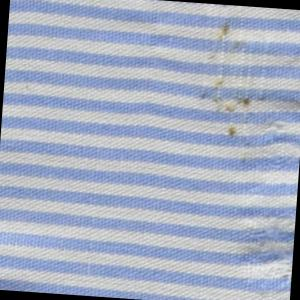Damage: (231, 47, 300, 300)
Oil Stain: (203, 20, 260, 143)
